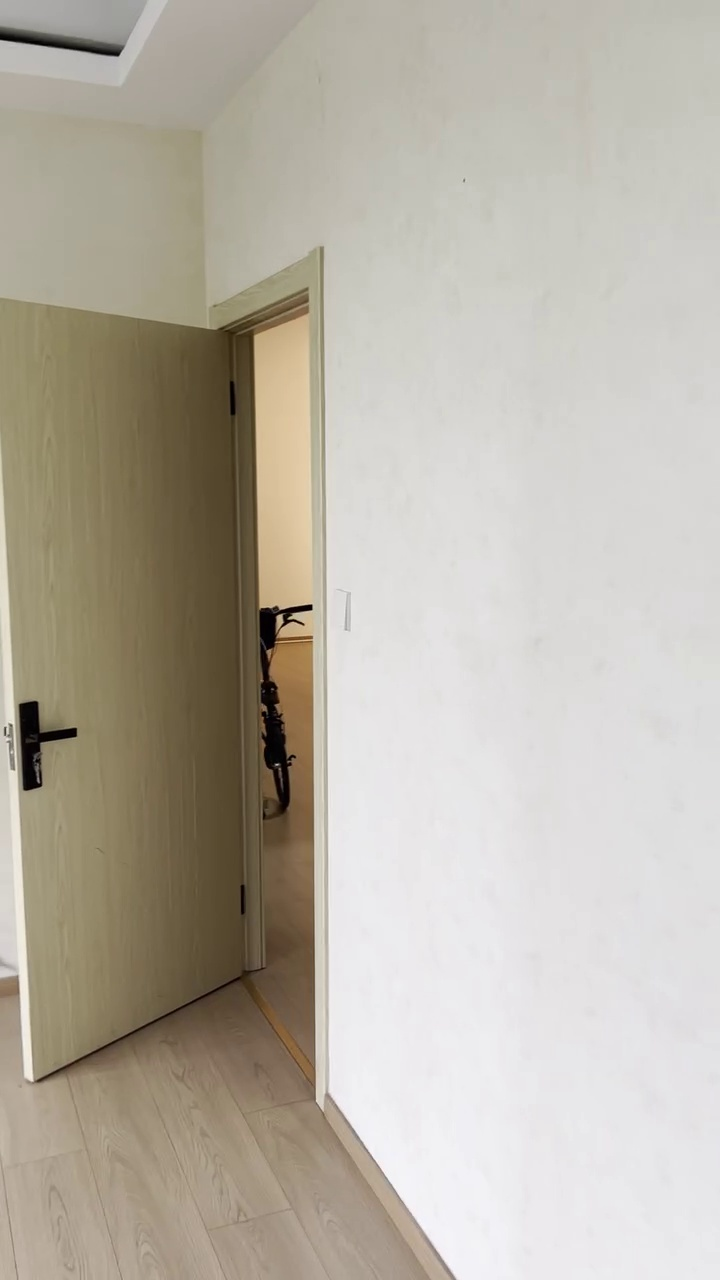button: (330, 586, 353, 633)
